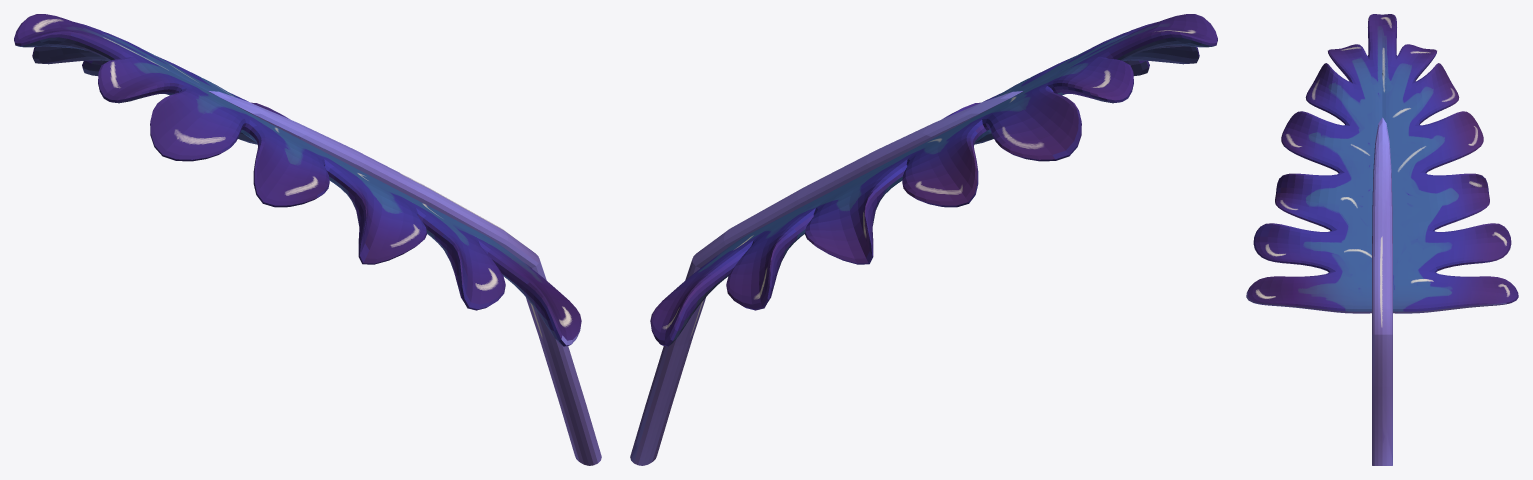
File: planta1.fbx
3 views of the same model, side by side, from view 1: azimuth 30°, elevation 25°; view 2: azimuth 150°, elevation 25°; view 3: azimuth 270°, elevation 25° (orthographic). The views are drawn at different scales.
Visible parts, largest first — view 1: Plane.003; view 2: Plane.003; view 3: Plane.003.
Part boxes in pixels (x1,y1,x2,y2): Plane.003: (14,14,601,465); Plane.003: (630,14,1217,465); Plane.003: (1246,14,1518,465).
Size of the model in its own units: 718 by 671 by 538.
